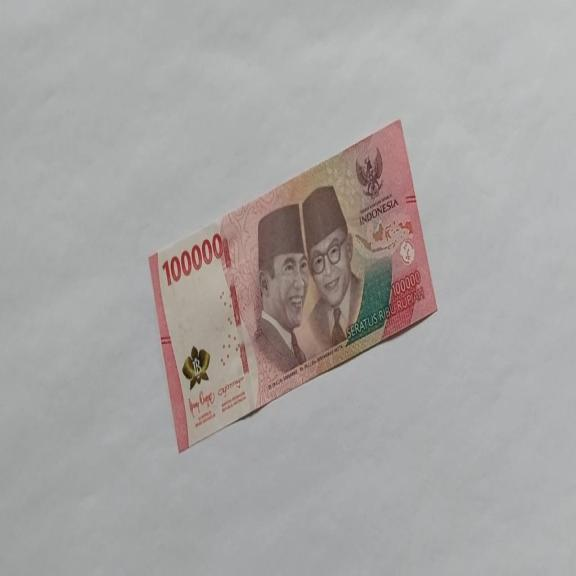Kertas: (148, 118, 438, 452), (160, 231, 224, 287)
